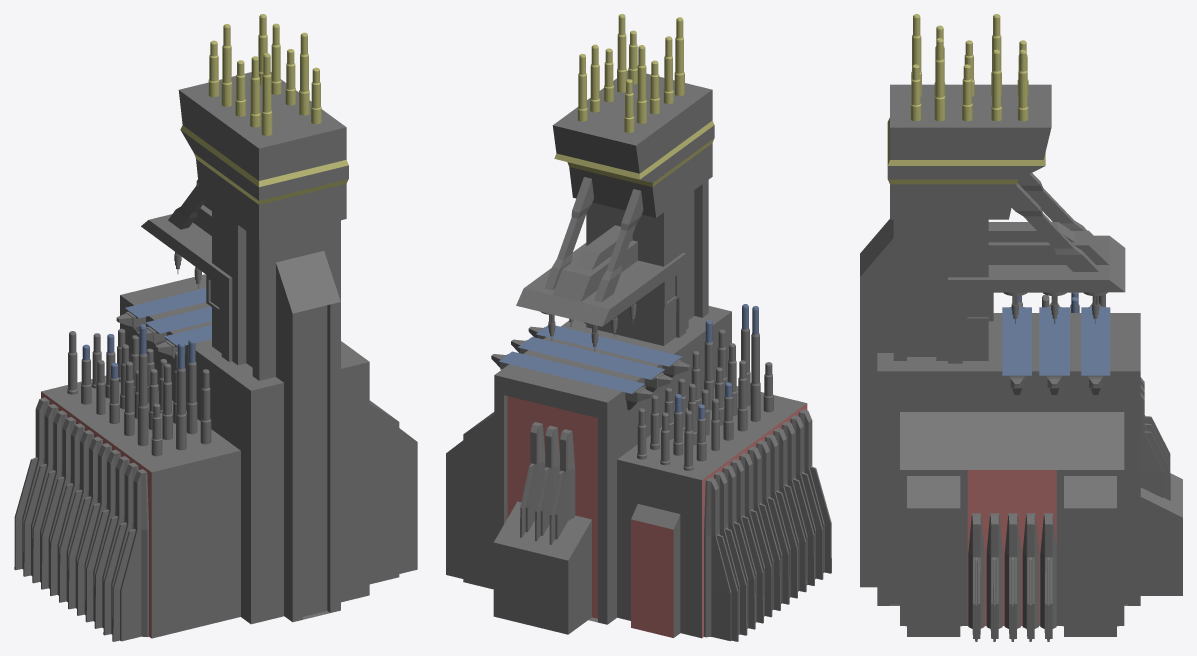
File: Resistor_Style_YBR_Low.fbx
3 views of the same model, side by side, from view 1: azimuth 30°, elevation 25°; view 2: azimuth 150°, elevation 25°; view 3: azimuth 270°, elevation 25° (orthographic). The views are drawn at different scales.
Visible parts, largest first — view 1: Resistor_Style_YBR_Low; view 2: Resistor_Style_YBR_Low; view 3: Resistor_Style_YBR_Low.
Boxes of the visible parts, box(x1,y1,x2,y2) form: Resistor_Style_YBR_Low: box(14, 14, 417, 641); Resistor_Style_YBR_Low: box(446, 14, 831, 641); Resistor_Style_YBR_Low: box(860, 14, 1182, 641).
Bounding box in the file's own units: 206 × 344 × 183.
